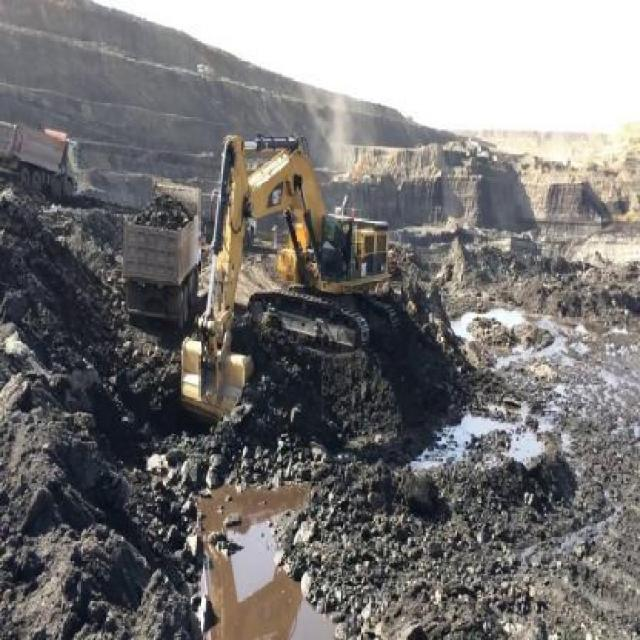Dump Truck: (120, 172, 203, 328), (0, 118, 82, 200)
Excavator: (178, 131, 399, 426)
